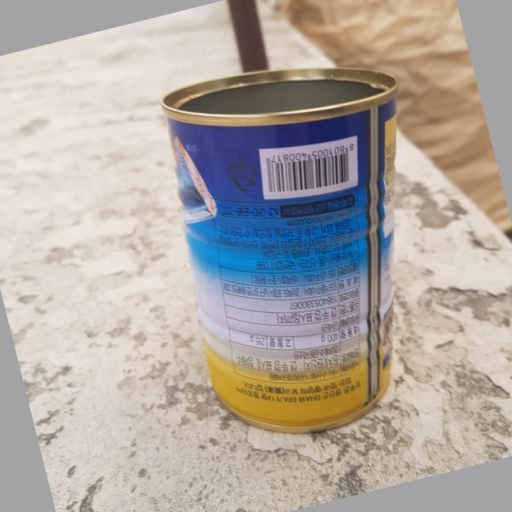Metal_1: (155, 68, 403, 435)
